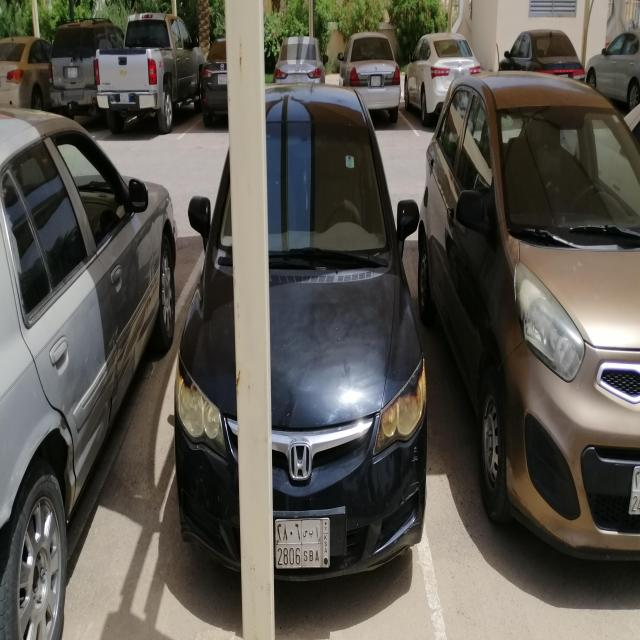license_plate: (276, 520, 330, 569), (371, 76, 381, 88), (120, 92, 130, 104), (68, 67, 78, 79), (218, 74, 226, 85), (454, 72, 464, 80), (292, 75, 302, 83)
